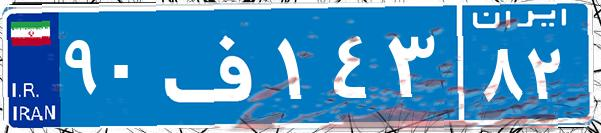0: (110, 28, 158, 105)
1: (273, 28, 330, 110)
2: (525, 38, 570, 115)
3: (385, 28, 445, 110)
4: (330, 28, 385, 110)
8: (475, 38, 525, 113)
9: (57, 26, 110, 107)
ف: (158, 15, 273, 115)
